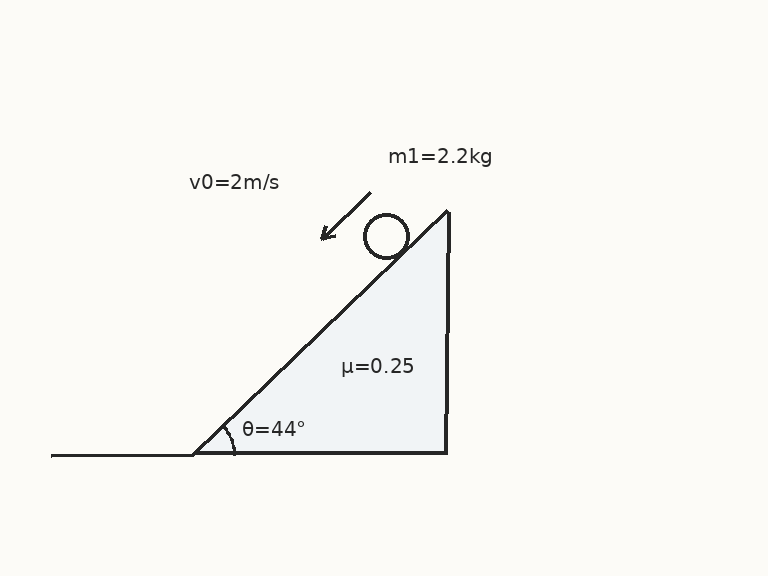ball: (361, 211, 411, 261)
ramp: (192, 208, 448, 456)
